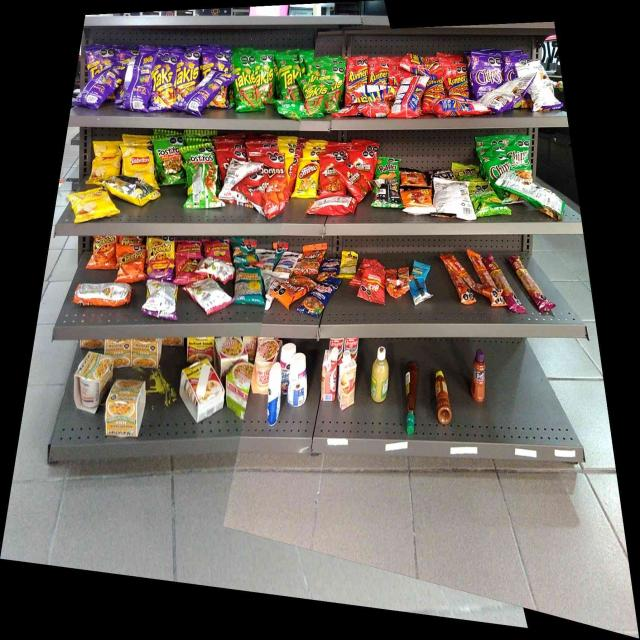bitzAlmendras: (411, 280, 428, 302), (410, 262, 430, 278)
bitzEnchilado90: (362, 271, 384, 299)
bitzEnchilado95: (450, 252, 482, 302)
bitzHabanero: (512, 256, 532, 290), (490, 254, 504, 293)
bokadosCacahuates: (309, 286, 331, 312), (322, 259, 339, 278)
botaneraChilito: (434, 372, 447, 418)
cheetosFlaminHot: (149, 239, 173, 276)
cheetosOriginal: (93, 235, 116, 268), (119, 248, 144, 277)
chipsFuego: (474, 56, 503, 88), (504, 56, 515, 80)
chipsJalapeno: (509, 147, 529, 173), (489, 156, 508, 181)
chipsPapatinas: (470, 184, 500, 213), (455, 167, 481, 180)
churrumais: (176, 260, 196, 282), (207, 241, 228, 257), (178, 242, 202, 255)
delPrimoSalsa: (372, 345, 389, 403)
doritosNacho: (242, 182, 278, 204), (260, 163, 283, 180)
fritosLimon: (298, 163, 317, 194)
hotNutsOriginal: (406, 188, 431, 212), (402, 170, 425, 184)
leoCacahuates: (275, 254, 296, 276)
leoMix: (278, 278, 307, 299), (300, 250, 320, 270)
maruchanPollo: (109, 383, 141, 436), (77, 358, 111, 382), (132, 339, 158, 367), (106, 339, 130, 356)
maruchanRes: (182, 364, 222, 414), (187, 338, 214, 362)
nestleCarnation: (339, 354, 357, 409), (320, 350, 338, 401)
nestleLechera: (288, 354, 307, 406), (268, 361, 282, 425)
nissinCamaron: (225, 363, 255, 416)
nissinRes: (218, 338, 243, 360), (257, 341, 279, 361)
popKarameladas: (428, 170, 453, 180)
productoAtras: (435, 180, 469, 218), (126, 56, 150, 107), (395, 77, 423, 117), (76, 284, 129, 305), (188, 166, 215, 206), (225, 165, 255, 200), (145, 283, 176, 316), (524, 184, 558, 214), (189, 283, 228, 308), (112, 178, 155, 200), (79, 79, 118, 103), (532, 66, 551, 110), (310, 198, 354, 217), (444, 100, 484, 116), (374, 179, 397, 205), (201, 262, 233, 278), (503, 80, 527, 101), (200, 76, 223, 95), (277, 102, 303, 116), (360, 105, 387, 117)
rancheritos: (322, 161, 342, 191), (345, 172, 365, 194), (352, 156, 372, 171)
rufflesQueso: (376, 159, 398, 178)
runners: (406, 55, 440, 75), (348, 60, 368, 89), (447, 67, 468, 94), (425, 77, 442, 107), (370, 62, 389, 84), (352, 92, 386, 104)
sabritasOriginal: (75, 187, 105, 218), (95, 149, 118, 176), (127, 152, 150, 177)
salsaBufalo: (402, 362, 418, 432)
semillasCalabaza: (341, 254, 356, 277)
semillasGirasol: (236, 266, 260, 300), (234, 243, 254, 262)
tajinDulce: (470, 350, 485, 402)
takisFuego: (151, 65, 174, 106), (176, 61, 198, 93), (87, 54, 110, 77), (202, 55, 228, 75)
takisOriginal: (233, 63, 257, 108), (280, 59, 302, 100), (258, 58, 274, 105), (306, 82, 326, 115), (326, 78, 342, 110)
tostitos: (159, 142, 183, 181), (187, 149, 214, 163)
